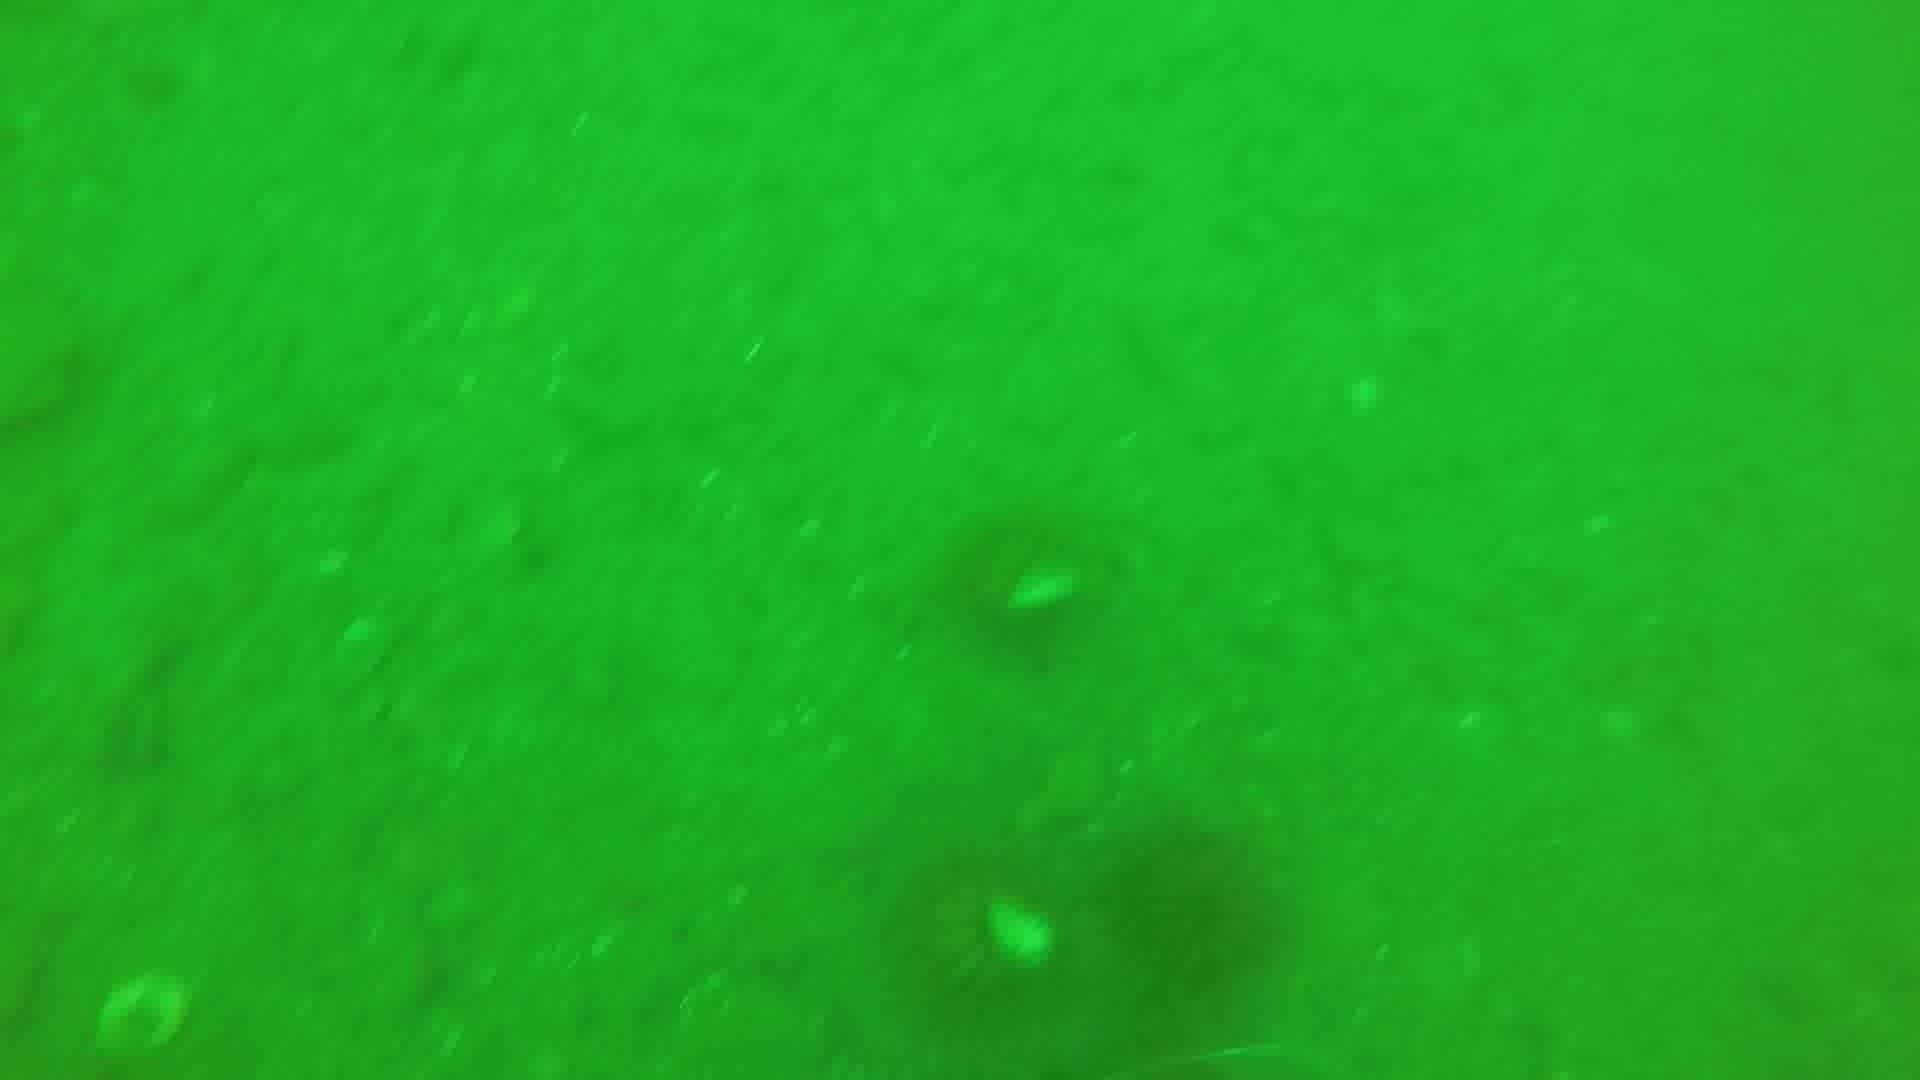echinus: (884, 839, 1091, 1052), (1092, 812, 1286, 1000), (938, 508, 1121, 679)
